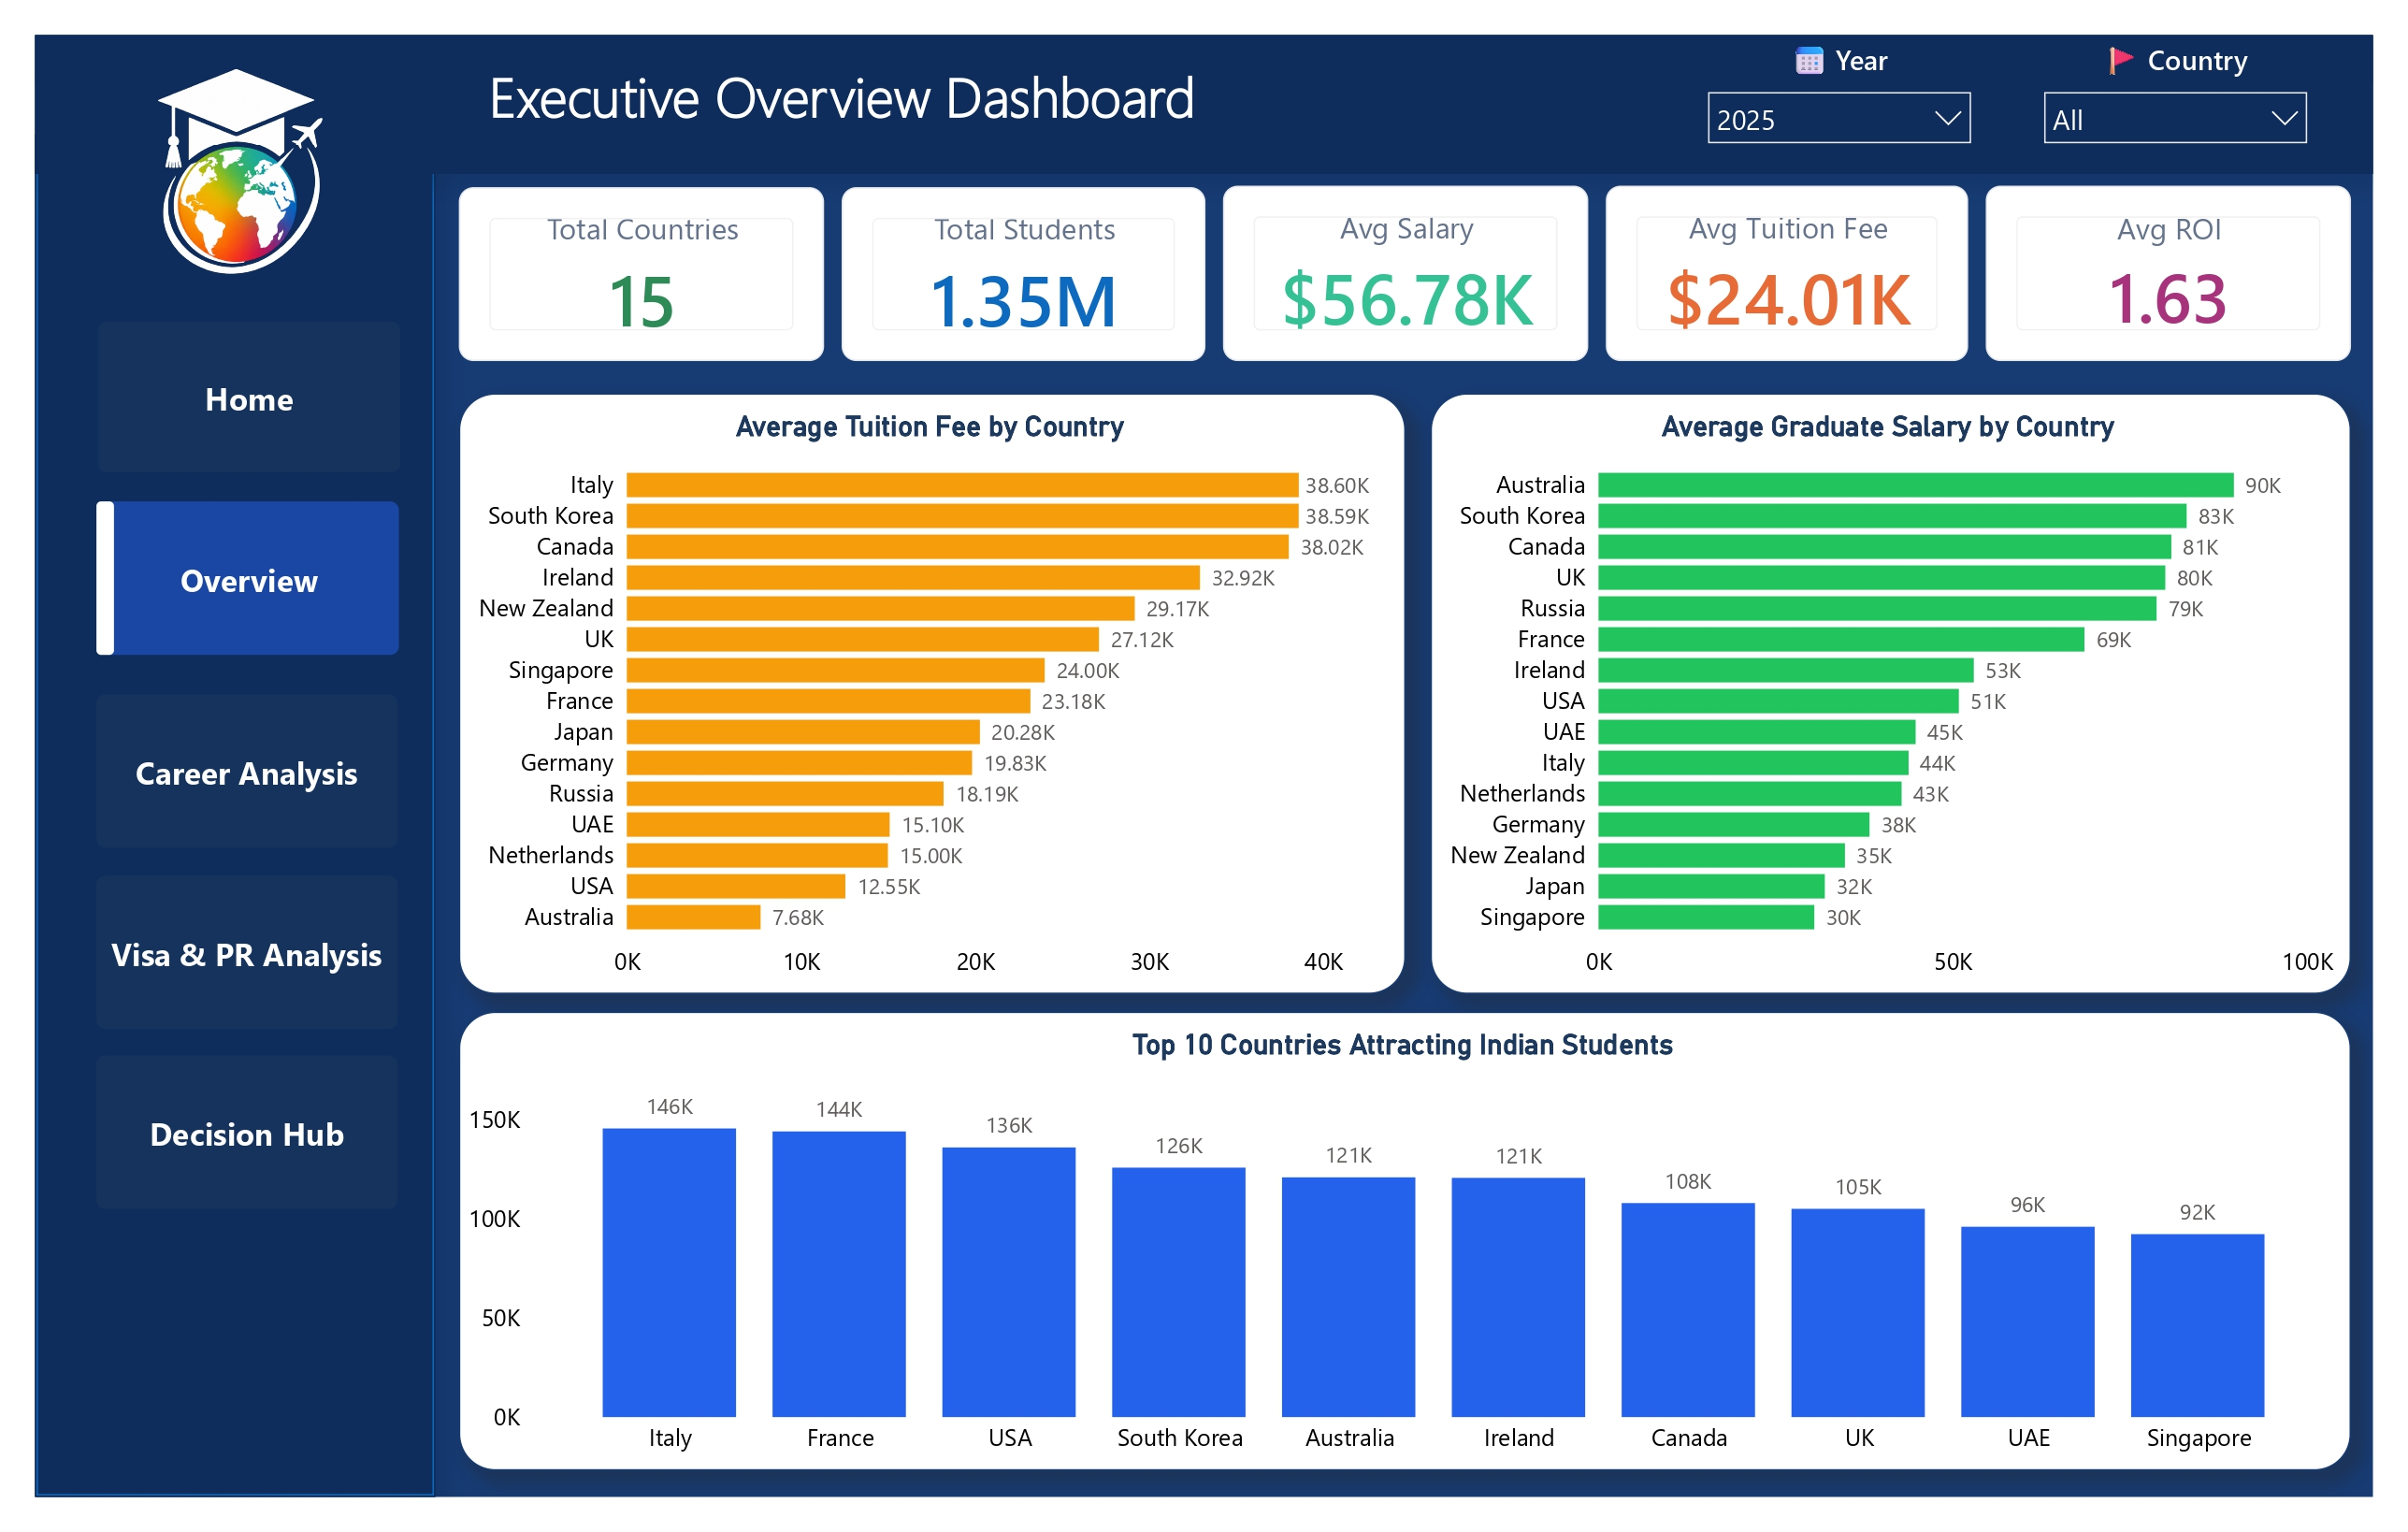

This screenshot's page, from the dashboard's own definition file:
{"tool":"powerbi","page":{"name":"Overview","canvas":[1600,1000],"ordinal":1},"visuals":[{"type":"group","id":"g1","title":"Complete Nav","box":[0,0,1599.6,1000],"z":0},{"type":"actionButton","box":[42.6,196,207.3,103.3],"z":0,"group":"g2"},{"type":"shape","box":[0,68,273.7,932],"z":1000,"group":"g1"},{"type":"cardVisual","fields":{"Data":["study_abroad_features_latest.Avg Salary"]},"box":[813.2,103.3,250,120],"z":1000},{"type":"actionButton","box":[43.4,318.8,204.9,105.2],"z":1000,"group":"g2"},{"type":"cardVisual","fields":{"Data":["study_abroad_features_latest.Total Countries"]},"box":[290,103.9,249.7,119.4],"z":2000},{"type":"actionButton","box":[41.7,451.2,205.7,105],"z":2000,"group":"g2"},{"type":"shape","box":[0,0,1599.6,94.8],"z":3000,"group":"g1"},{"type":"cardVisual","fields":{"Data":["study_abroad_features_latest.Avg Tuition Fee"]},"box":[1075.1,103.3,248.3,120],"z":3000},{"type":"actionButton","box":[41.7,574.8,205.7,105],"z":3000,"group":"g2"},{"type":"clusteredBarChart","title":"Average Tuition Fee by Country","fields":{"Y":["Sum(study_abroad_features_latest.Tuition_Fee_USD)"],"Category":["study_abroad_features_latest.Country_Display"]},"box":[290,245,648.3,411],"z":4000},{"type":"actionButton","box":[41.7,698.5,205.7,105],"z":4000,"group":"g2"},{"type":"clusteredBarChart","title":"Average Graduate Salary by Country","fields":{"Y":["Avg(study_abroad_features_latest.Average_Graduate_Salary_USD)"],"Category":["study_abroad_features_latest.Country_Display"]},"box":[955.3,245,629.7,411],"z":5000},{"type":"columnChart","title":"Top 10 Countries Attracting Indian Students","fields":{"Category":["study_abroad_features_latest.Country_Display"],"Y":["Sum(study_abroad_features_latest.Number_of_Indian_Students)"]},"box":[290,668.4,1295,313.3],"z":6000},{"type":"cardVisual","fields":{"Data":["study_abroad_features_latest.Avg ROI"]},"box":[1335,103.3,250,120],"z":7000},{"type":"cardVisual","fields":{"Data":["study_abroad_features_latest.Total Students"]},"box":[551.6,103.9,249.7,119.4],"z":8000},{"type":"shape","box":[41.7,319.4,12.2,105],"z":9000},{"type":"slicer","title":"🚩 Country","fields":{"Values":["study_abroad_features_latest.Country"]},"box":[1364.7,3.5,199.9,84.2],"z":11000,"group":"g1"},{"type":"slicer","title":"📅 Year","fields":{"Values":["study_abroad_features_latest.Year"]},"box":[1134.7,3.5,199.9,84.2],"z":12000,"group":"g1"},{"type":"image","box":[26,4,224,180],"z":13000,"group":"g1"},{"type":"group","id":"g2","title":"Navigation Buttons","box":[41.7,196,208.2,607.4],"z":14000,"group":"g1"},{"type":"textbox","title":"Heading","box":[306,10.7,578,68],"z":14500,"group":"g1"}]}

Visuals, with their boxes on the page's 1600x1000 design canvas (x1, y1, x2, y2). These are canvas units, not pixel positions in the 2408x1532 screenshot, which may show the page scaled, cropped or inside an application window:
"Complete Nav" group: x1=0, y1=0, x2=1600, y2=1000
actionButton: x1=43, y1=196, x2=250, y2=299
shape: x1=0, y1=68, x2=274, y2=1000
cardVisual - study_abroad_features_latest.Avg Salary: x1=813, y1=103, x2=1063, y2=223
actionButton: x1=43, y1=319, x2=248, y2=424
cardVisual - study_abroad_features_latest.Total Countries: x1=290, y1=104, x2=540, y2=223
actionButton: x1=42, y1=451, x2=247, y2=556
shape: x1=0, y1=0, x2=1600, y2=95
cardVisual - study_abroad_features_latest.Avg Tuition Fee: x1=1075, y1=103, x2=1323, y2=223
actionButton: x1=42, y1=575, x2=247, y2=680
"Average Tuition Fee by Country" clusteredBarChart: x1=290, y1=245, x2=938, y2=656
actionButton: x1=42, y1=698, x2=247, y2=804
"Average Graduate Salary by Country" clusteredBarChart: x1=955, y1=245, x2=1585, y2=656
"Top 10 Countries Attracting Indian Students" columnChart: x1=290, y1=668, x2=1585, y2=982
cardVisual - study_abroad_features_latest.Avg ROI: x1=1335, y1=103, x2=1585, y2=223
cardVisual - study_abroad_features_latest.Total Students: x1=552, y1=104, x2=801, y2=223
shape: x1=42, y1=319, x2=54, y2=424
"🚩 Country" slicer: x1=1365, y1=4, x2=1565, y2=88
"📅 Year" slicer: x1=1135, y1=4, x2=1335, y2=88
image: x1=26, y1=4, x2=250, y2=184
"Navigation Buttons" group: x1=42, y1=196, x2=250, y2=803
"Heading" textbox: x1=306, y1=11, x2=884, y2=79
